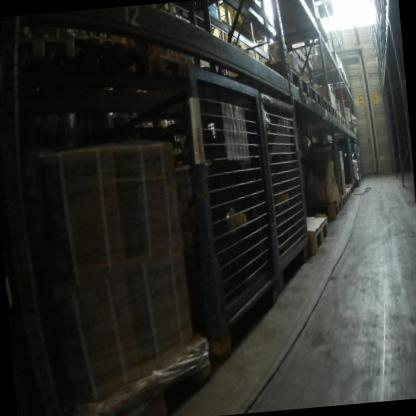pallet: (54, 331, 219, 416), (225, 53, 309, 105), (286, 203, 336, 261), (271, 18, 332, 55), (224, 11, 273, 49), (304, 76, 323, 108), (319, 194, 343, 218), (317, 88, 334, 121), (336, 190, 348, 210), (346, 118, 357, 139), (333, 110, 344, 128), (329, 99, 337, 123), (341, 188, 352, 202), (345, 184, 356, 195), (341, 115, 347, 131)
stillage: (62, 56, 286, 375), (173, 74, 316, 298), (331, 136, 359, 190), (355, 141, 363, 187)
